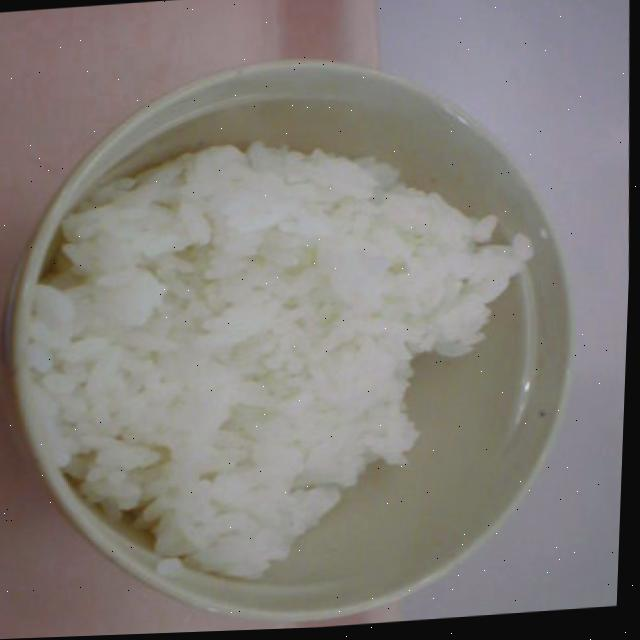米饭主食: (0, 26, 615, 640)
